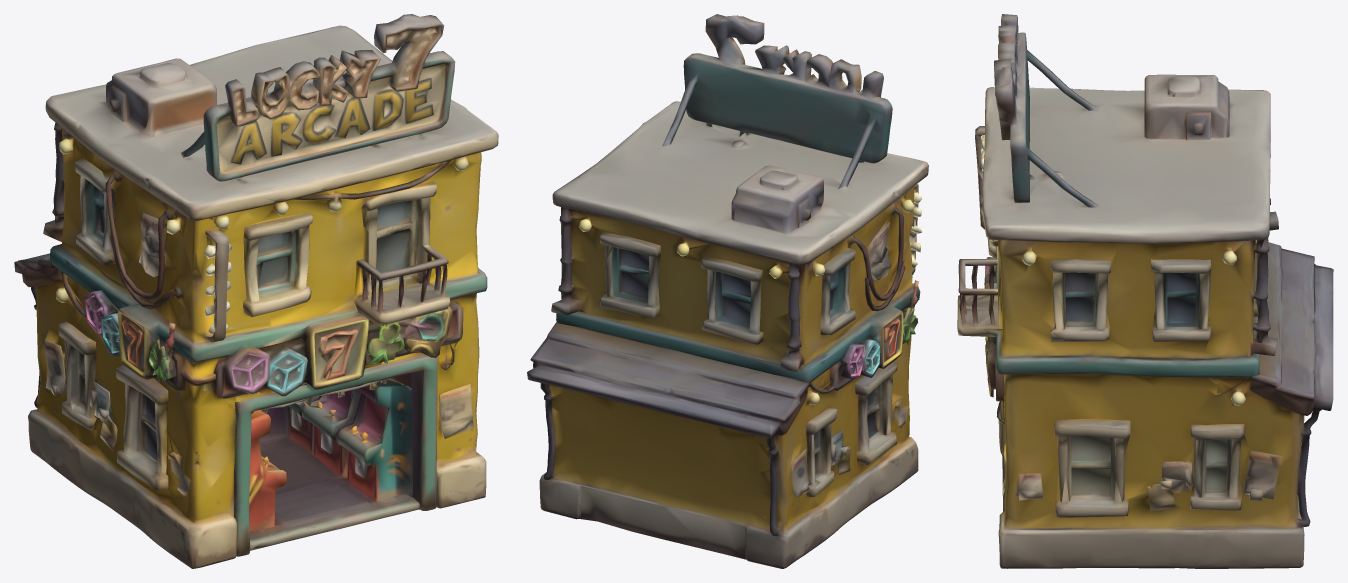
The model's file is arcade_building.glb.
3 renders of one model, left to right at view 1: azimuth 30°, elevation 25°; view 2: azimuth 150°, elevation 25°; view 3: azimuth 270°, elevation 25°, orthographic. The views are drawn at different scales.
Visible parts, largest first — view 1: tripo_part_0, tripo_part_1, tripo_part_2, tripo_part_3, tripo_part_5, tripo_part_6, tripo_part_9, tripo_part_15, tripo_part_8, tripo_part_7, tripo_part_18, tripo_part_13 (+6 smaller); view 2: tripo_part_0, tripo_part_1, tripo_part_2, tripo_part_20, tripo_part_10, tripo_part_19, tripo_part_8, tripo_part_16, tripo_part_18, tripo_part_13; view 3: tripo_part_0, tripo_part_1, tripo_part_20, tripo_part_2, tripo_part_24, tripo_part_14, tripo_part_23, tripo_part_12, tripo_part_7, tripo_part_28, tripo_part_5.
Boxes of the visible parts, bbox=[...] form: tripo_part_0: bbox=[28, 122, 487, 568]; tripo_part_1: bbox=[45, 25, 498, 221]; tripo_part_2: bbox=[181, 14, 455, 181]; tripo_part_3: bbox=[250, 377, 419, 550]; tripo_part_5: bbox=[213, 301, 463, 398]; tripo_part_6: bbox=[234, 352, 438, 556]; tripo_part_9: bbox=[243, 212, 313, 317]; tripo_part_15: bbox=[361, 180, 436, 293]; tripo_part_8: bbox=[115, 365, 168, 490]; tripo_part_7: bbox=[353, 244, 450, 324]; tripo_part_18: bbox=[84, 290, 176, 379]; tripo_part_13: bbox=[58, 320, 96, 430]; tripo_part_0: bbox=[539, 186, 920, 568]; tripo_part_1: bbox=[552, 101, 928, 265]; tripo_part_2: bbox=[662, 14, 892, 188]; tripo_part_20: bbox=[527, 321, 809, 438]; tripo_part_10: bbox=[599, 232, 660, 318]; tripo_part_19: bbox=[701, 256, 763, 344]; tripo_part_8: bbox=[854, 361, 897, 464]; tripo_part_16: bbox=[820, 249, 855, 334]; tripo_part_18: bbox=[841, 280, 918, 378]; tripo_part_13: bbox=[806, 406, 837, 496]; tripo_part_0: bbox=[983, 198, 1319, 568]; tripo_part_1: bbox=[982, 74, 1270, 247]; tripo_part_20: bbox=[1249, 242, 1333, 415]; tripo_part_2: bbox=[994, 14, 1098, 207]; tripo_part_24: bbox=[1054, 419, 1130, 502]; tripo_part_14: bbox=[1151, 258, 1211, 341]; tripo_part_23: bbox=[1050, 259, 1110, 341]; tripo_part_12: bbox=[1190, 424, 1249, 510]; tripo_part_7: bbox=[957, 259, 1002, 336]; tripo_part_28: bbox=[1055, 473, 1128, 517]; tripo_part_5: bbox=[984, 257, 1004, 406].
Bounding box in the file's own units: 0.6587 × 0.9821 × 0.7166.
1 material, 1 textured.
